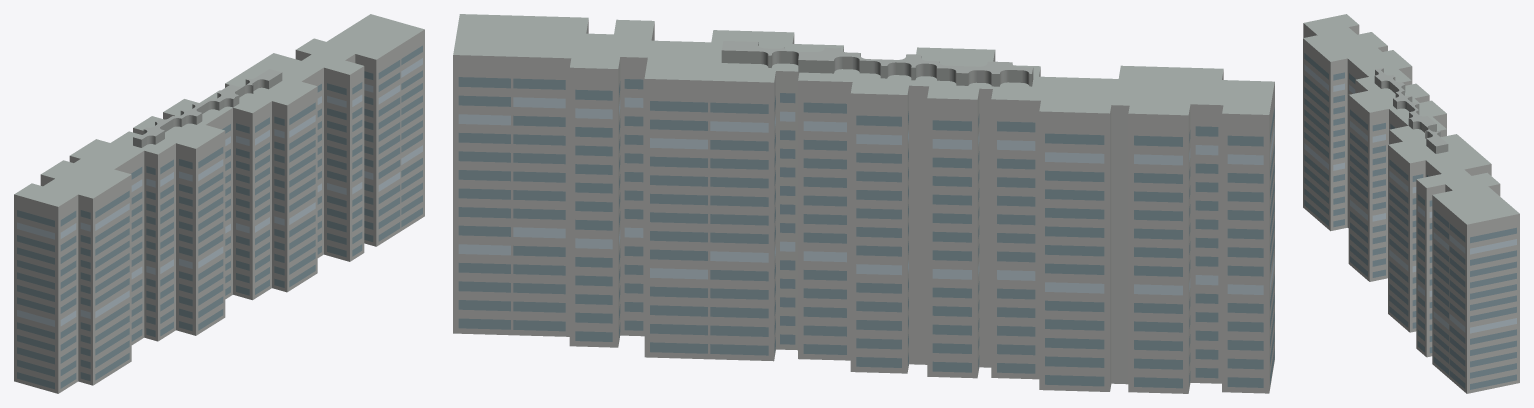
The model's file is apt-a13780402.glb.
3 renders of one model, left to right at view 1: azimuth 30°, elevation 25°; view 2: azimuth 150°, elevation 25°; view 3: azimuth 270°, elevation 25°, orthographic. The views are drawn at different scales.
Parts seen in each view (by area): view 1: apt-a13780402; view 2: apt-a13780402; view 3: apt-a13780402.
Part boxes in pixels (left/top/right/bottom): apt-a13780402: left=14, top=14, right=424, bottom=393; apt-a13780402: left=453, top=14, right=1274, bottom=393; apt-a13780402: left=1303, top=14, right=1519, bottom=393.
Size of the model in its own units: 122 by 47.81 by 53.14.
